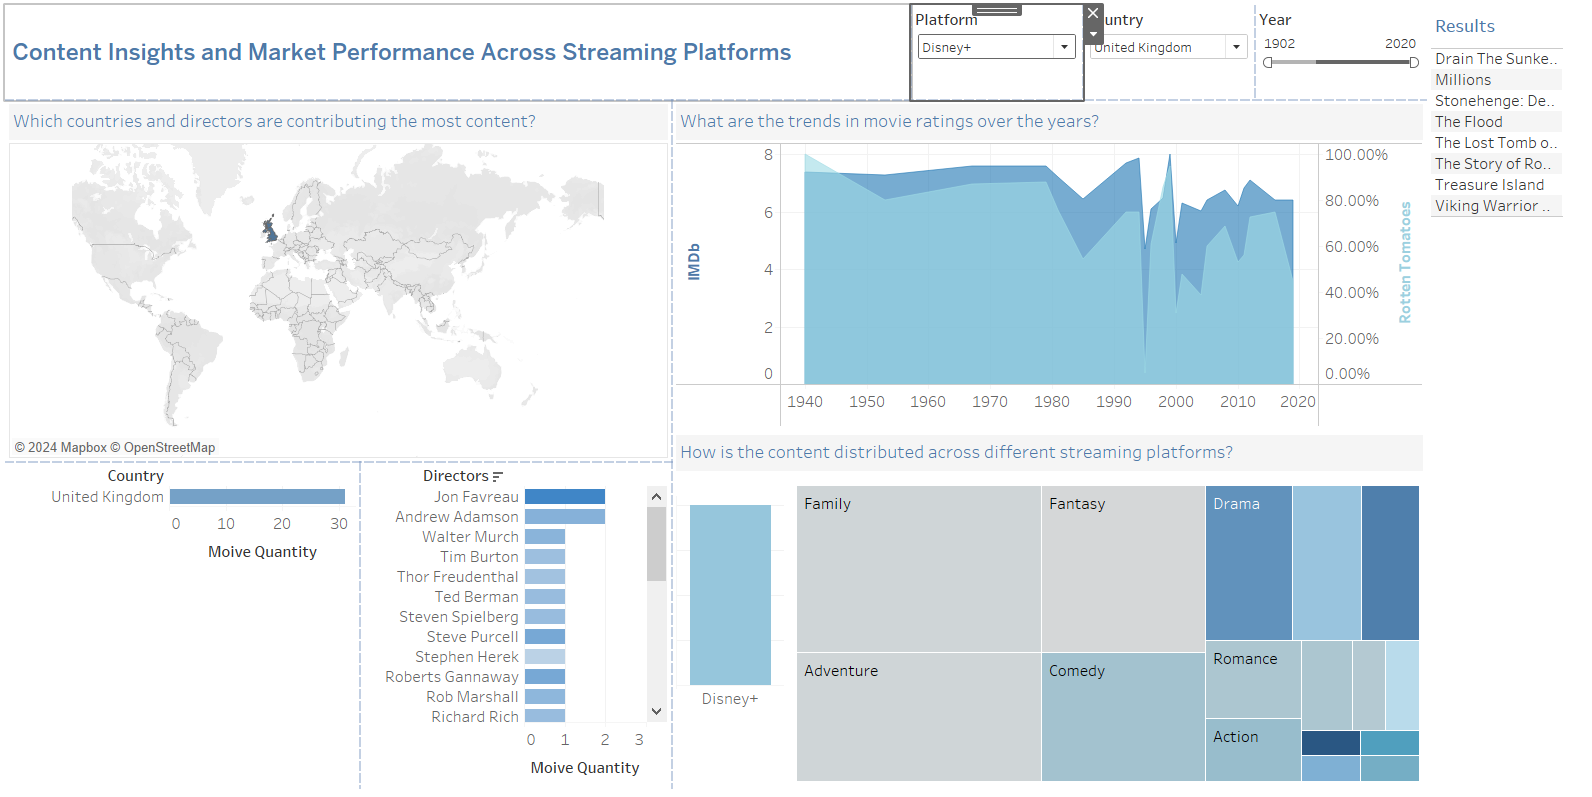

This screenshot's page, from the dashboard's own definition file:
{"tool":"tableau","page":{"name":"Dashboard 1","canvas":[1600,800],"ordinal":0},"visuals":[{"type":"text","box":[8,8,906.3,95]},{"type":"filter","title":"Movie Quantity per Platform","param":"[federated.1v2amaa0ujh0ya148v65g1jri8bp].[none:Calculation_2366923099191042052:n","box":[914.3,8,171.9,95]},{"type":"filter","title":"Map","param":"[federated.0v00ylg0pnrtdu19m46nk1q7qqan].[none:Country:nk]","box":[1086.2,8,171.9,95]},{"type":"filter","title":"Average Ratings by Year","param":"[federated.0v00ylg0pnrtdu19m46nk1q7qqan].[none:Year:qk]","box":[1258,8,172,95]},{"type":"worksheet","title":"Moive Title","mark":"Automatic","rows":["Title"],"box":[1430,8,162,784]},{"type":"worksheet","title":"Map","mark":"Multipolygon","box":[8,103,666.5,362]},{"type":"worksheet","title":"Average Ratings by Year","mark":"Area","rows":["IMDb","Rotten Tomatoes"],"cols":["Year"],"box":[674.5,103,755.5,331]},{"type":"worksheet","title":"Title","mark":"Automatic","box":[674.5,434,755.5,46]},{"type":"worksheet","title":"Top Countries by Movie Production","mark":"Automatic","rows":["Country"],"cols":["ID"],"box":[8,465,355.4,327]},{"type":"worksheet","title":"Director Performance","mark":"Automatic","rows":["Directors"],"cols":["ID"],"box":[363.4,465,311.2,327]},{"type":"worksheet","title":"Movie Quantity per Platform","mark":"Automatic","cols":["Calculation_2366923099191042052"],"box":[674.5,480,116.4,312]},{"type":"worksheet","title":"Genre Distribution","mark":"Automatic","box":[790.9,480,639.1,312]}]}

Visuals, with their boxes in screenshot pixels (x1, y1, x2, y2), scaled from the page's 1600x800 canvas onto the 1592x797 screenshot:
text: 8, 8, 910, 103
"Movie Quantity per Platform" filter: 910, 8, 1081, 103
"Map" filter: 1081, 8, 1252, 103
"Average Ratings by Year" filter: 1252, 8, 1423, 103
"Moive Title" worksheet: 1423, 8, 1584, 789
"Map" worksheet (Multipolygon marks): 8, 103, 671, 463
"Average Ratings by Year" worksheet (Area marks): 671, 103, 1423, 432
"Title" worksheet: 671, 432, 1423, 478
"Top Countries by Movie Production" worksheet: 8, 463, 362, 789
"Director Performance" worksheet: 362, 463, 671, 789
"Movie Quantity per Platform" worksheet: 671, 478, 787, 789
"Genre Distribution" worksheet: 787, 478, 1423, 789
